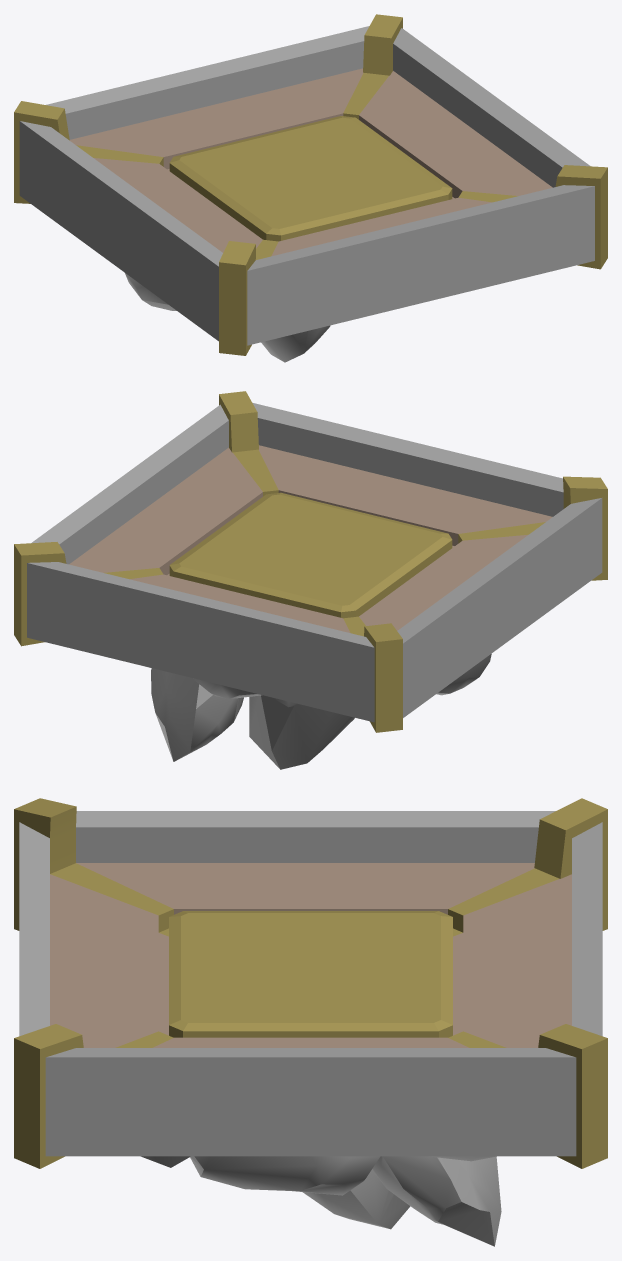
File: ChargedSquarePlatform.fbx
3 renders of one model, top to bottom at view 1: azimuth 30°, elevation 25°; view 2: azimuth 150°, elevation 25°; view 3: azimuth 270°, elevation 25°, orthographic. The views are drawn at different scales.
Parts seen in each view (by area): view 1: pCube1, pPlatonic15; view 2: pCube1, pPlatonic15; view 3: pCube1, pPlatonic15.
Boxes of the visible parts, box(x1,y1,x2,y2) form: pCube1: box(14, 14, 607, 355); pPlatonic15: box(125, 273, 330, 362); pCube1: box(14, 391, 607, 732); pPlatonic15: box(151, 654, 491, 769); pCube1: box(14, 798, 607, 1168); pPlatonic15: box(141, 1156, 501, 1246).
Size of the model in its own units: 422 by 245 by 422.
